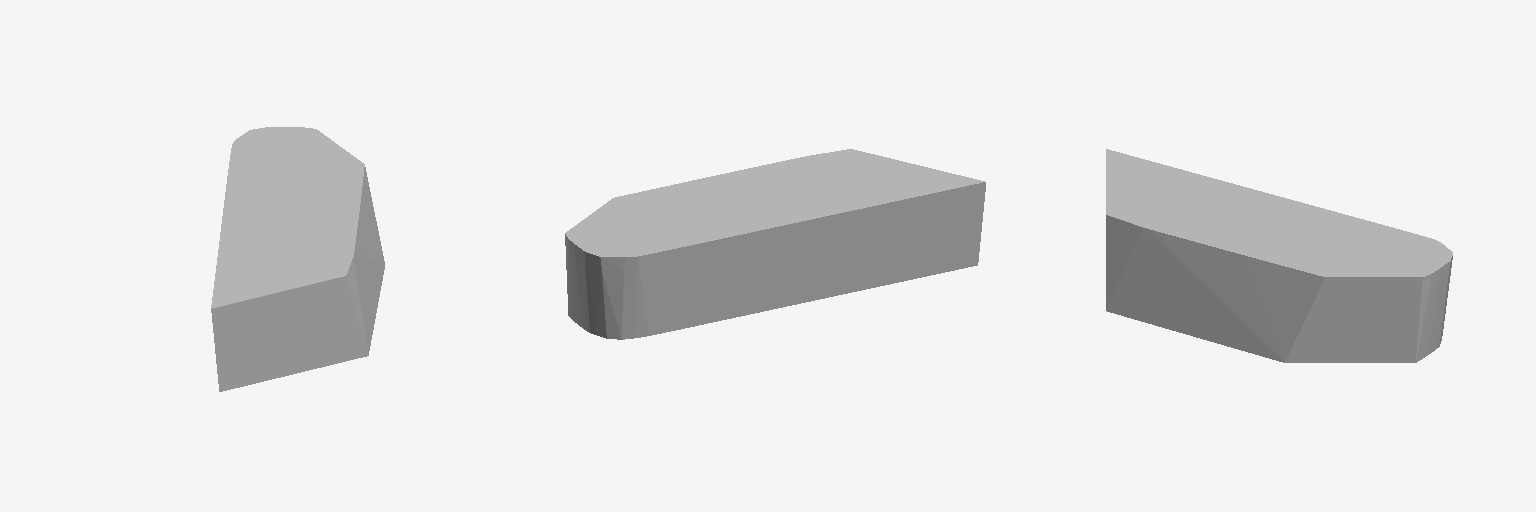
File: sofa_collision_13.obj
3 views of the same model, side by side, from view 1: azimuth 30°, elevation 25°; view 2: azimuth 150°, elevation 25°; view 3: azimuth 270°, elevation 25° (orthographic).
Size of the model in its own units: 133 by 41.29 by 152.